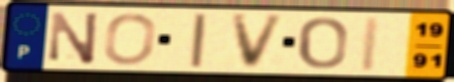I: (357, 14, 385, 73), (188, 12, 210, 69)
N: (48, 10, 102, 66)
O: (101, 11, 159, 66), (296, 15, 349, 71)
V: (229, 13, 289, 71)
